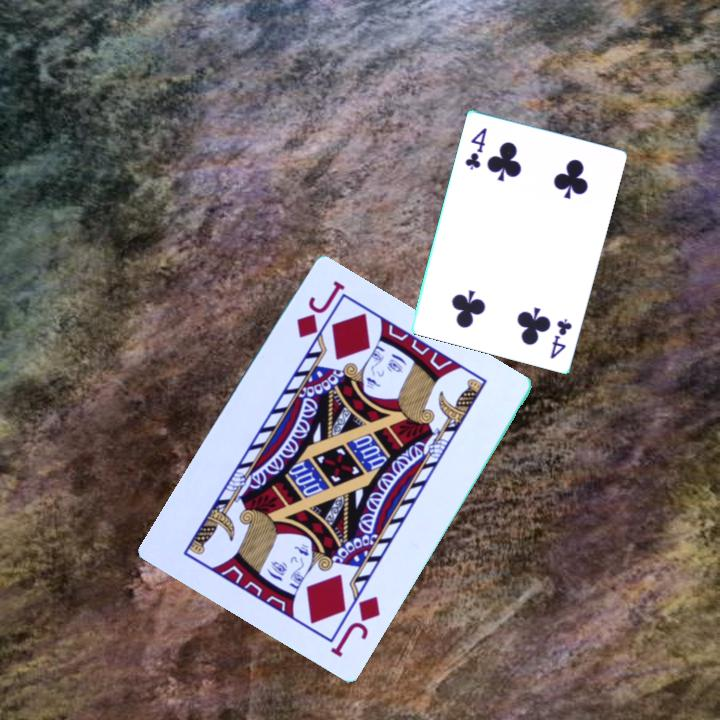4c: (461, 124, 490, 172), (546, 315, 575, 361)
Jd: (326, 584, 384, 661), (292, 277, 348, 342)
